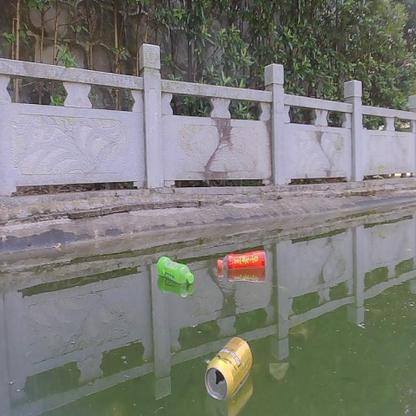can: (205, 335, 251, 398)
plastic bottle: (155, 256, 195, 286), (215, 251, 267, 270)
